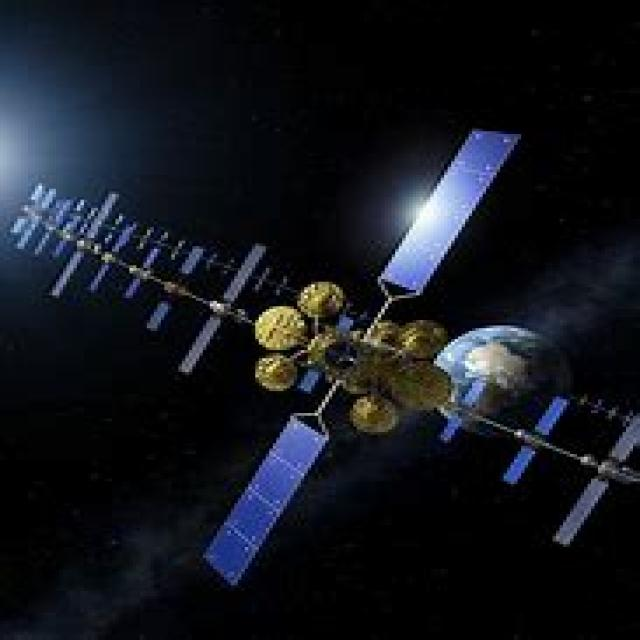satellite: (7, 129, 640, 637)
